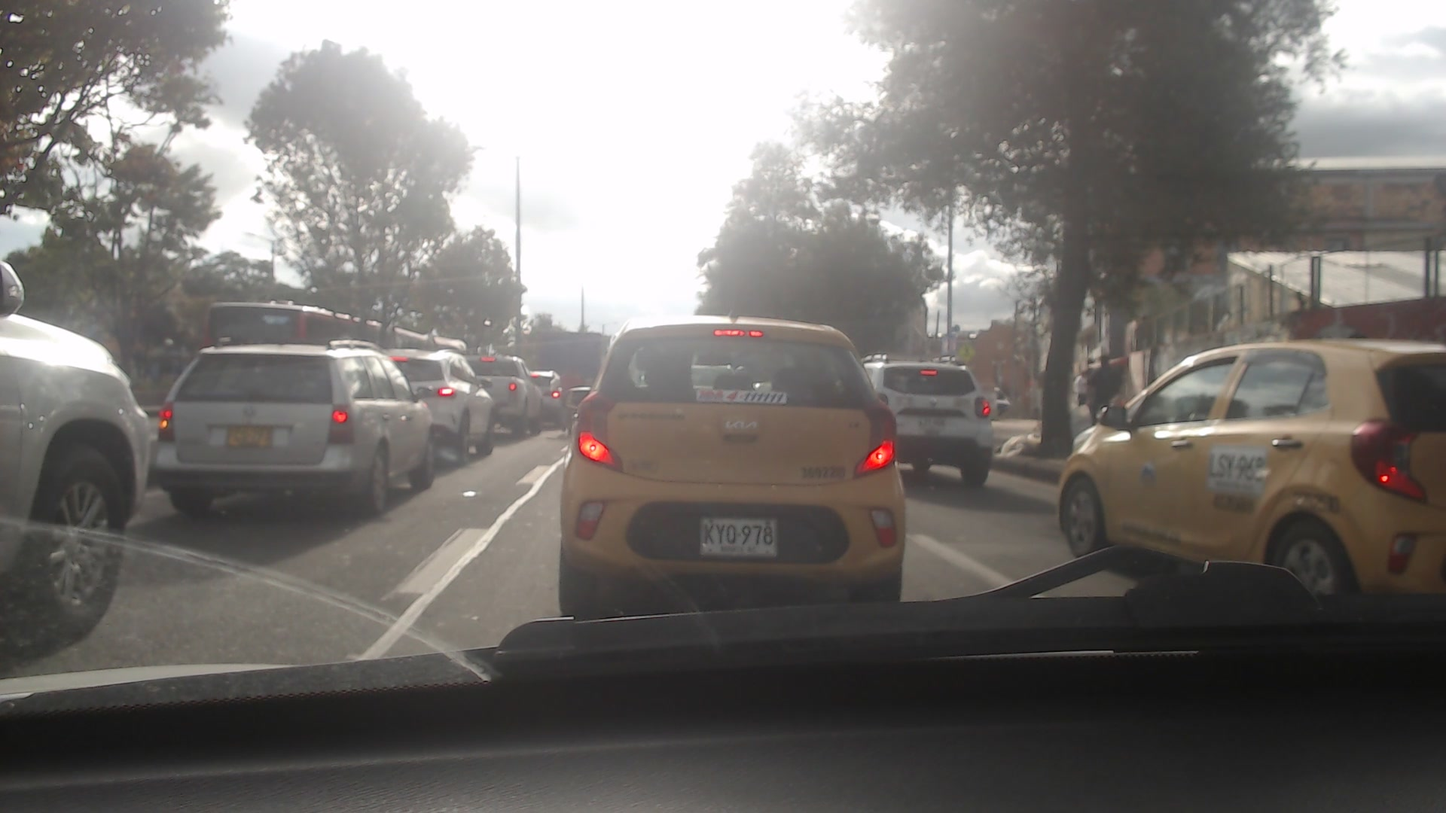car: (1051, 329, 1446, 613), (556, 317, 908, 606), (149, 336, 445, 511), (854, 352, 997, 493), (372, 346, 502, 458), (451, 354, 548, 441)
person: (1078, 351, 1123, 423)
